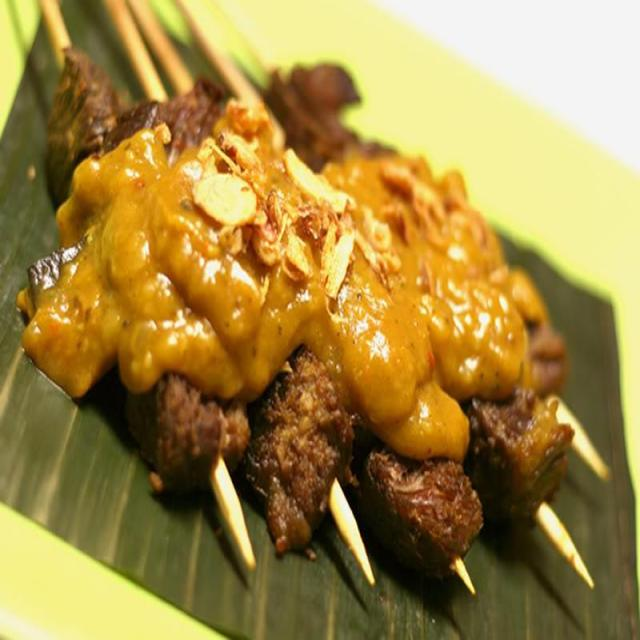Sate: (16, 0, 615, 594)
